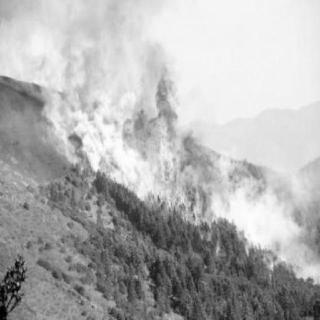Fire: (78, 149, 95, 185)
Smoke: (73, 38, 139, 98), (237, 192, 293, 248), (140, 44, 164, 102), (4, 4, 28, 40)
